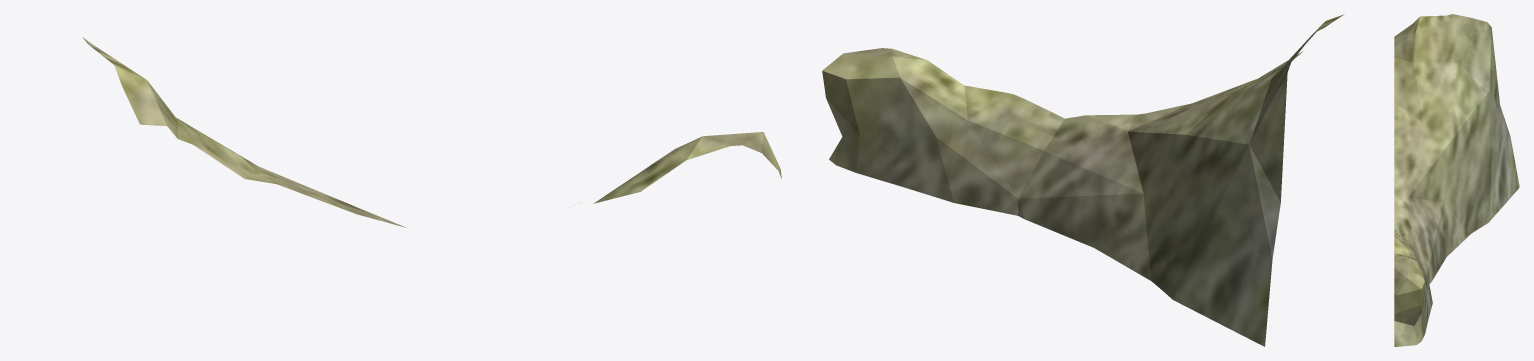
The picture shows the model from 3 angles, left to right: view 1: azimuth 30°, elevation 25°; view 2: azimuth 150°, elevation 25°; view 3: azimuth 270°, elevation 25°; orthographic projection. The views are drawn at different scales.
Size of the model in its own units: 3.21 by 1.63 by 1.07.
Materials: 1 (1 with a texture image).
